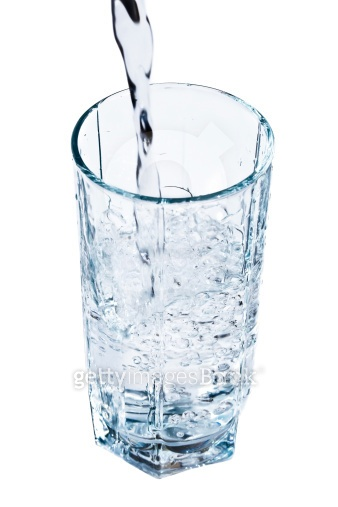glass of water: (64, 71, 282, 486)
